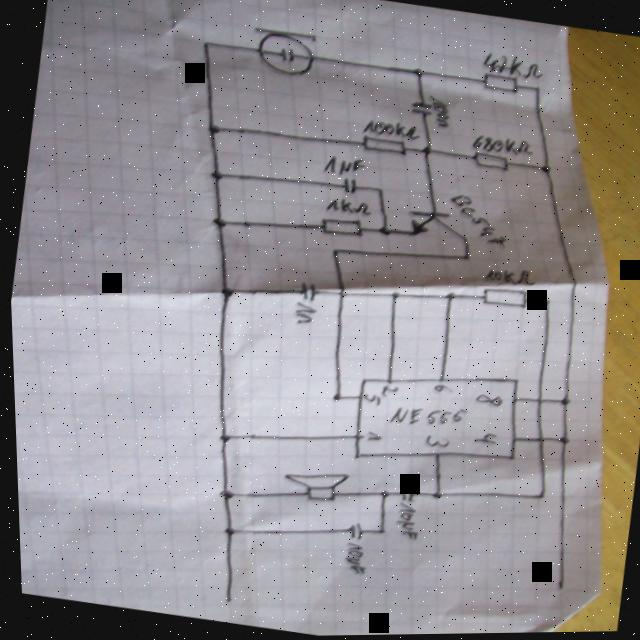capacitor: (295, 281, 316, 304), (408, 101, 433, 118), (394, 483, 414, 504), (342, 521, 362, 541), (339, 177, 358, 196)
crossover: (531, 435, 545, 447), (333, 289, 346, 301), (531, 397, 543, 407)
junction: (215, 285, 235, 299), (374, 226, 393, 239), (208, 216, 226, 229), (417, 145, 434, 158), (215, 488, 232, 501), (213, 432, 228, 445), (553, 435, 568, 448), (205, 123, 221, 135), (410, 67, 424, 80), (537, 165, 552, 177), (440, 291, 455, 303), (326, 392, 340, 404), (556, 397, 570, 409), (207, 170, 222, 181), (374, 489, 387, 501), (218, 526, 232, 537), (387, 290, 400, 301), (198, 40, 212, 50), (428, 490, 440, 501), (328, 247, 341, 257), (459, 254, 471, 264), (532, 492, 544, 502), (539, 299, 551, 308), (372, 186, 384, 195), (372, 528, 383, 537), (532, 87, 542, 94)
resistor: (475, 284, 529, 315), (316, 213, 366, 242), (358, 134, 408, 159), (469, 151, 510, 174), (480, 72, 519, 96)
terminal: (216, 594, 232, 608), (548, 582, 563, 595)
text: (441, 193, 513, 250), (385, 398, 467, 437), (479, 51, 545, 83), (468, 133, 537, 162), (360, 116, 422, 143), (479, 263, 536, 292), (321, 195, 372, 221), (320, 153, 367, 180), (389, 503, 419, 542), (336, 542, 366, 577), (424, 95, 453, 130), (289, 301, 317, 327), (470, 391, 503, 411), (419, 433, 449, 452), (469, 430, 496, 449), (377, 383, 397, 400), (359, 393, 380, 408), (429, 384, 452, 397), (361, 431, 381, 444)
transistor: (404, 208, 470, 247)
